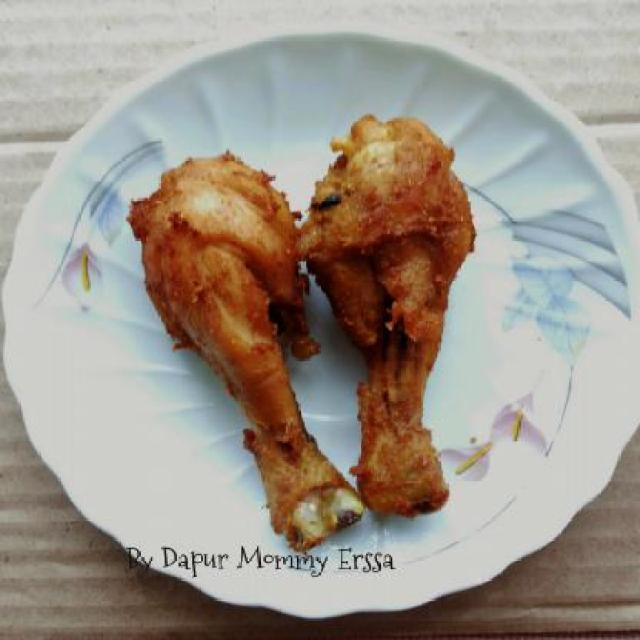Frango: (79, 124, 370, 571), (278, 84, 548, 511)
